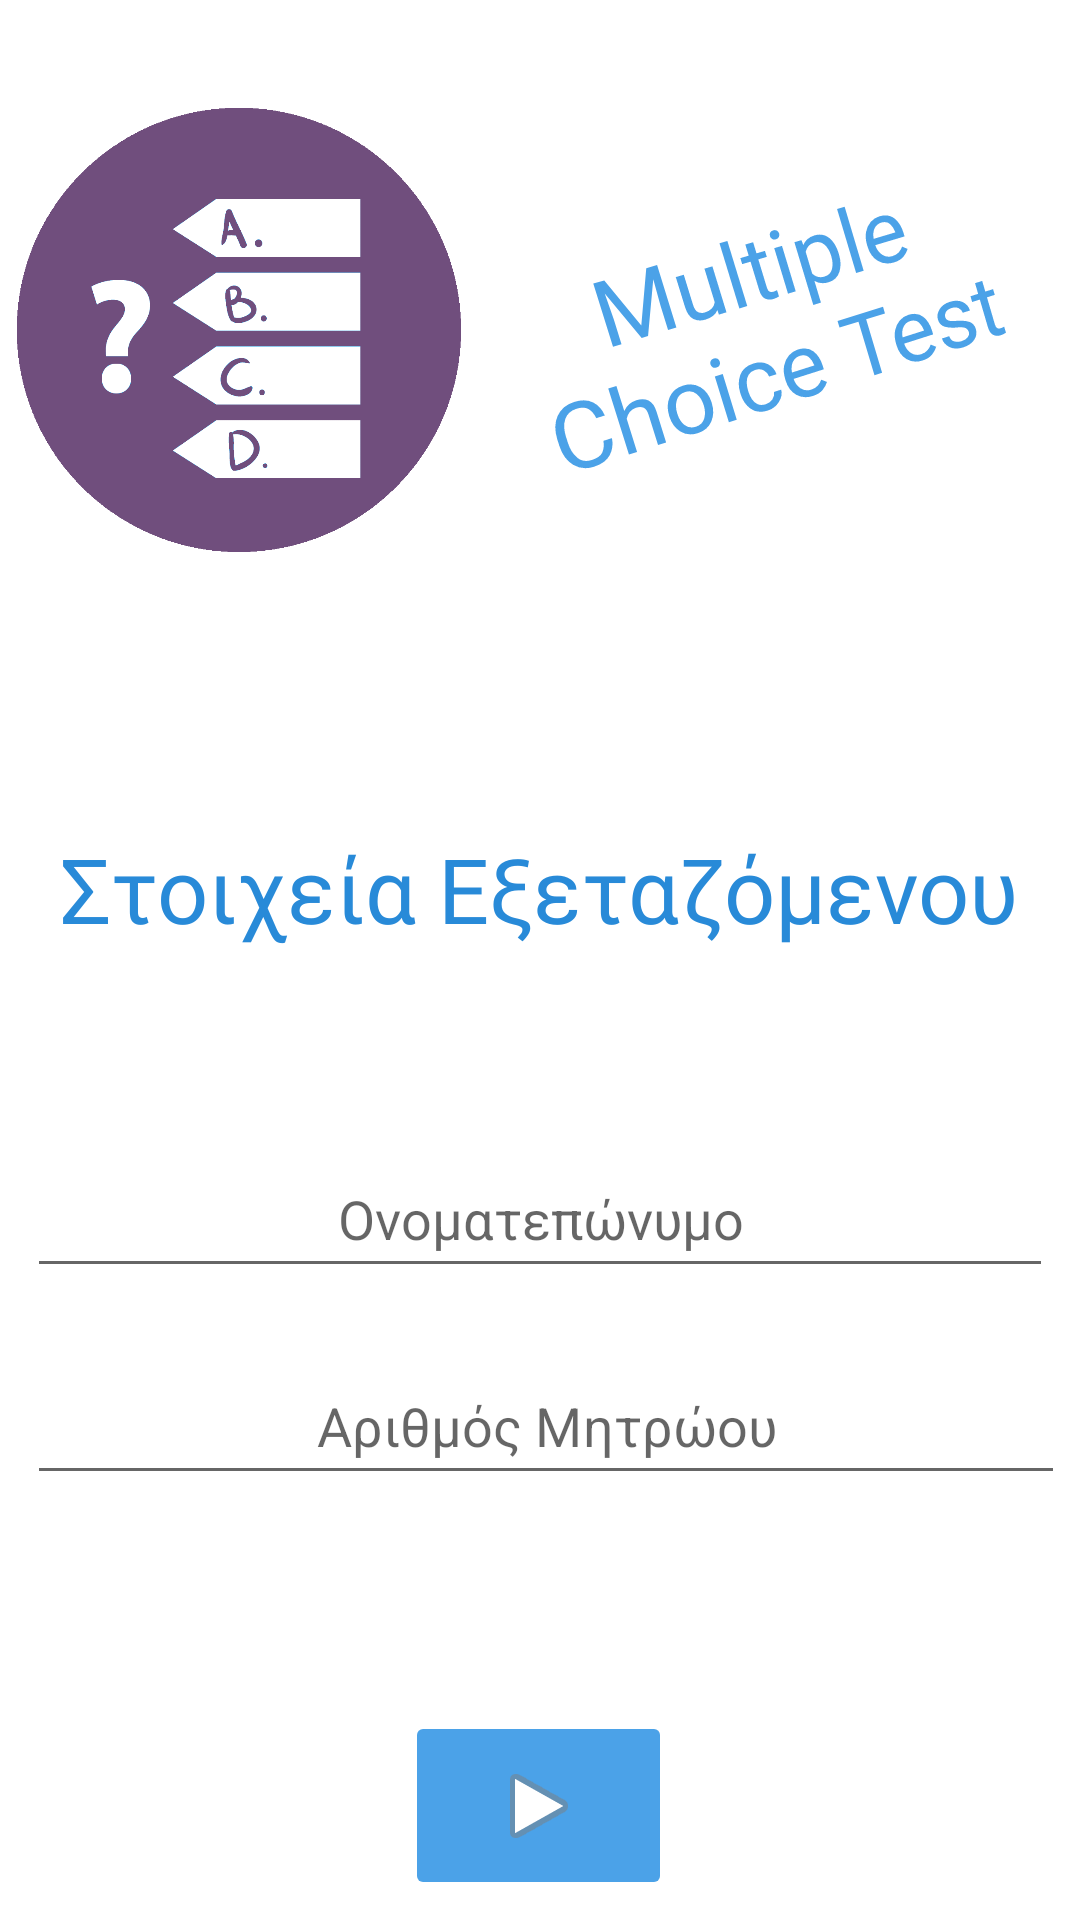

Named icons in this screenshot (1080px×1920px) and their bounding boxes, bbox=(x1, y1, x2, y2):
Έναρξη: bbox=(417, 1729, 660, 1882)
